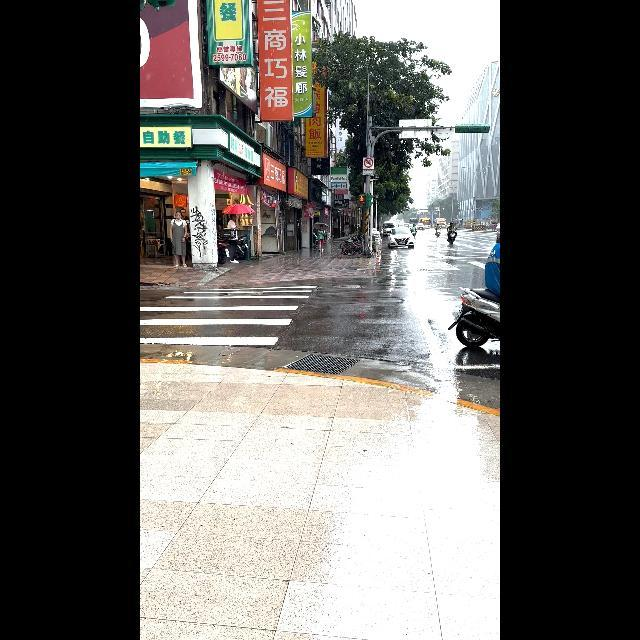sidewalk: (140, 285, 317, 346)
